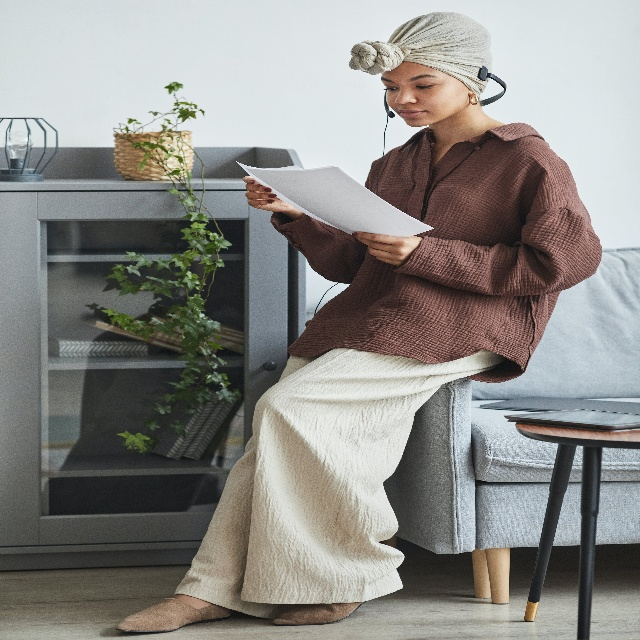Sin_guantes: (351, 225, 423, 266), (242, 172, 297, 215)
